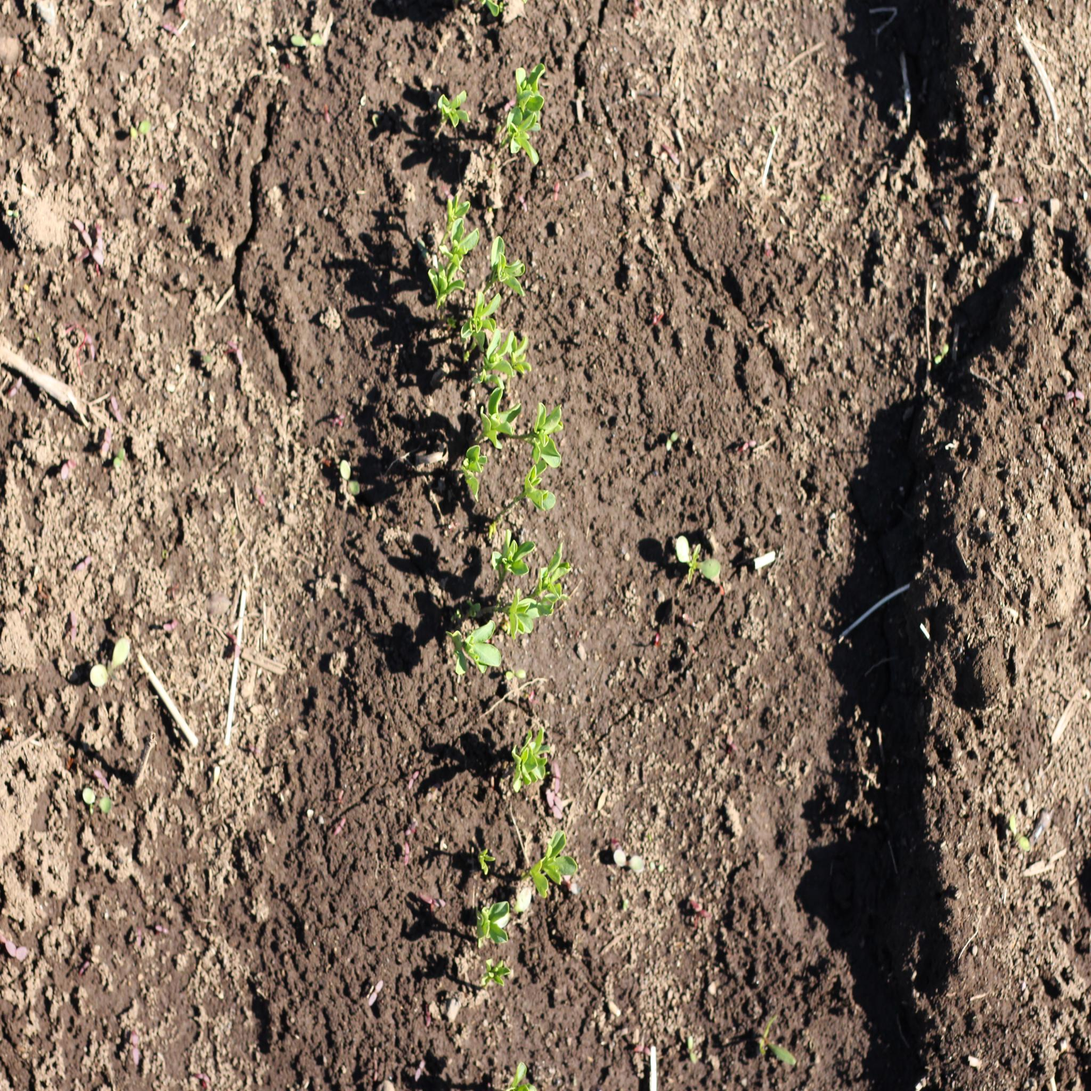AMBEL: (89, 635, 133, 693), (676, 536, 725, 586), (1009, 812, 1033, 856), (81, 787, 115, 818), (337, 455, 362, 496), (614, 847, 646, 875), (288, 29, 323, 52), (128, 117, 151, 141), (934, 341, 952, 367), (684, 1030, 698, 1063), (503, 669, 526, 685), (113, 443, 127, 469), (668, 428, 682, 452), (6, 207, 21, 219)
LENCU: (530, 828, 582, 897), (446, 617, 504, 677), (508, 727, 548, 794), (477, 385, 520, 447), (459, 288, 500, 353), (538, 542, 574, 615), (483, 327, 531, 379), (533, 398, 567, 470), (486, 526, 531, 580), (500, 107, 541, 166), (487, 232, 524, 295), (439, 218, 478, 277), (474, 897, 510, 948), (501, 589, 537, 640), (425, 259, 463, 307), (511, 62, 546, 114), (521, 463, 555, 511), (459, 441, 487, 498), (436, 87, 469, 129), (499, 1060, 536, 1091), (478, 957, 511, 989), (444, 191, 469, 224), (478, 845, 496, 877)
POLAV: (752, 1009, 795, 1065)
POLPE: (1, 933, 31, 964), (416, 891, 446, 911), (91, 224, 106, 264), (366, 978, 385, 1008), (691, 898, 714, 922), (227, 334, 244, 366), (60, 454, 78, 481), (92, 768, 112, 792), (73, 214, 90, 242), (130, 1029, 142, 1067), (110, 392, 124, 424), (546, 791, 560, 822), (664, 140, 681, 165), (68, 610, 80, 645), (84, 329, 97, 360), (8, 373, 24, 397), (76, 555, 94, 576), (412, 1057, 426, 1084), (101, 425, 112, 456), (406, 769, 420, 793), (332, 816, 347, 838), (636, 1042, 657, 1057), (728, 734, 741, 758), (740, 436, 759, 452), (196, 1070, 211, 1090), (255, 481, 267, 506), (515, 191, 528, 214), (424, 1001, 434, 1030), (553, 759, 561, 795), (403, 820, 419, 838), (1065, 388, 1087, 401), (321, 101, 332, 126), (163, 620, 180, 636), (400, 842, 410, 869), (148, 179, 167, 193), (134, 924, 144, 950), (162, 20, 178, 36), (683, 613, 698, 630), (154, 923, 170, 938), (766, 235, 776, 259), (331, 410, 344, 427), (1009, 191, 1022, 207), (552, 178, 561, 201), (635, 0, 644, 21), (651, 629, 660, 650), (1013, 193, 1026, 206)
